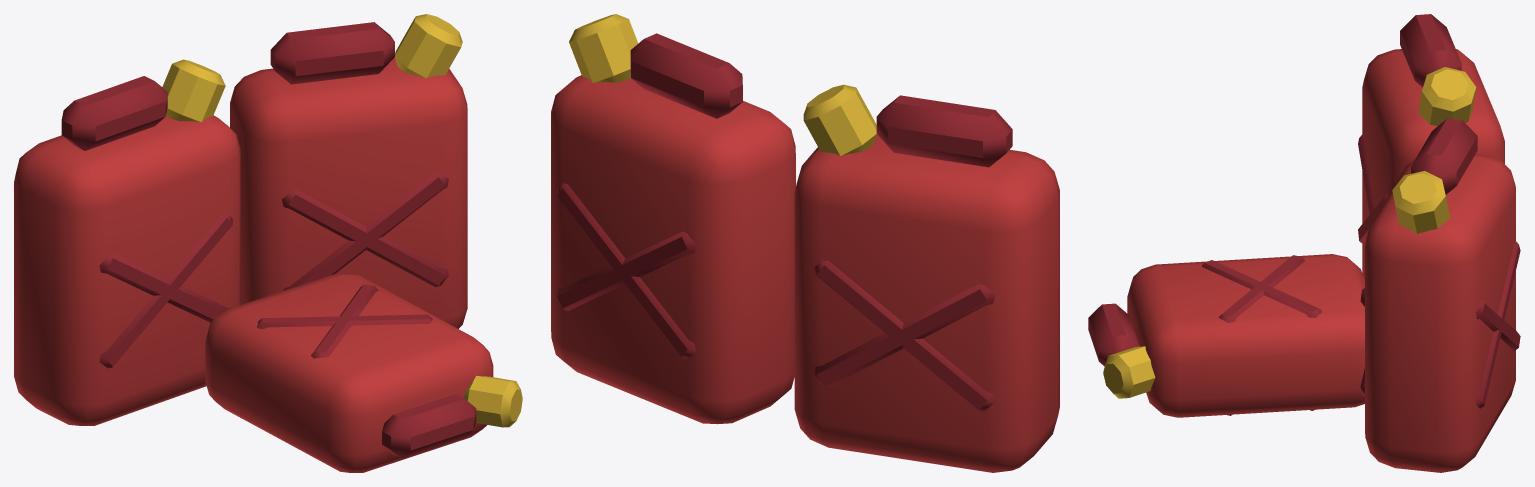
Rendered from p_pile_fuel.glb.
The picture shows the model from 3 angles, left to right: view 1: azimuth 30°, elevation 25°; view 2: azimuth 150°, elevation 25°; view 3: azimuth 270°, elevation 25°; orthographic projection. The views are drawn at different scales.
Parts seen in each view (by area): view 1: body; view 2: body; view 3: body.
Boxes of the visible parts, x1,y1,x2,y2 form: body: [14, 14, 522, 472]; body: [551, 14, 1059, 472]; body: [1088, 14, 1520, 472].
Bounding box in the file's own units: 1.38 × 0.9485 × 1.26.
